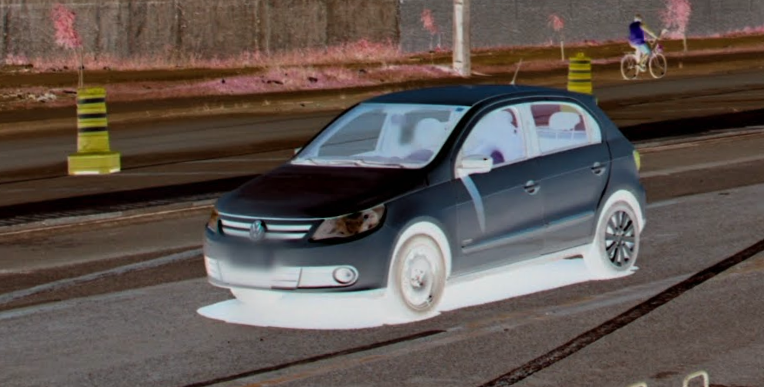car: (201, 56, 649, 317)
